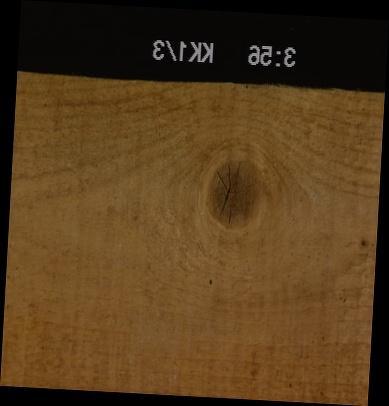small_knot: (359, 237, 368, 247)
sound_knot: (206, 156, 265, 230)
